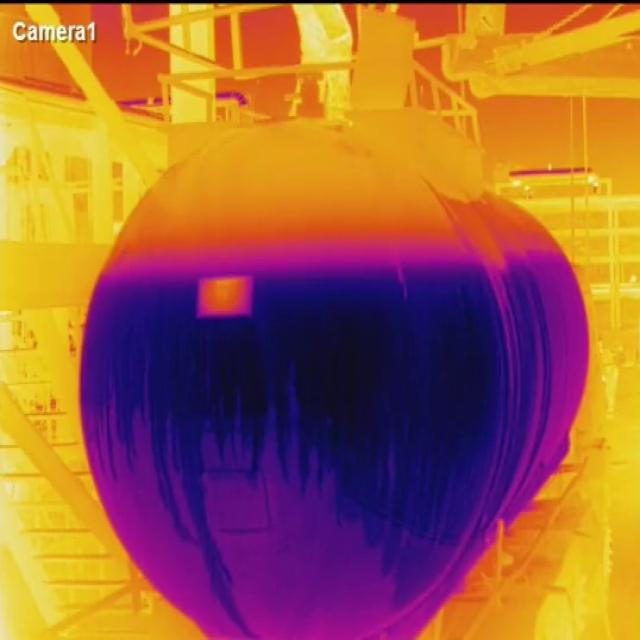tank: (80, 131, 507, 639)
